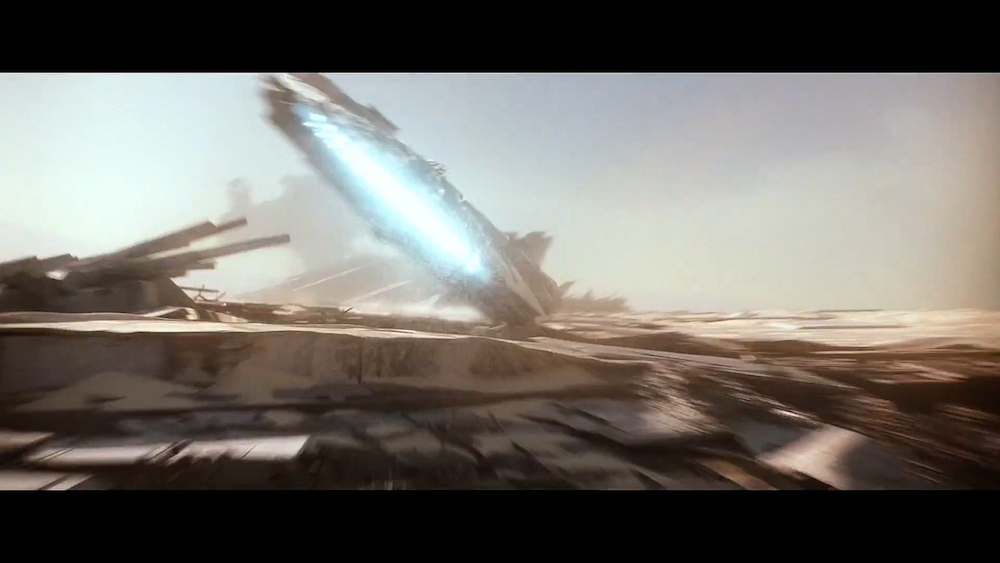Millennium Falcon: (252, 75, 559, 331)
